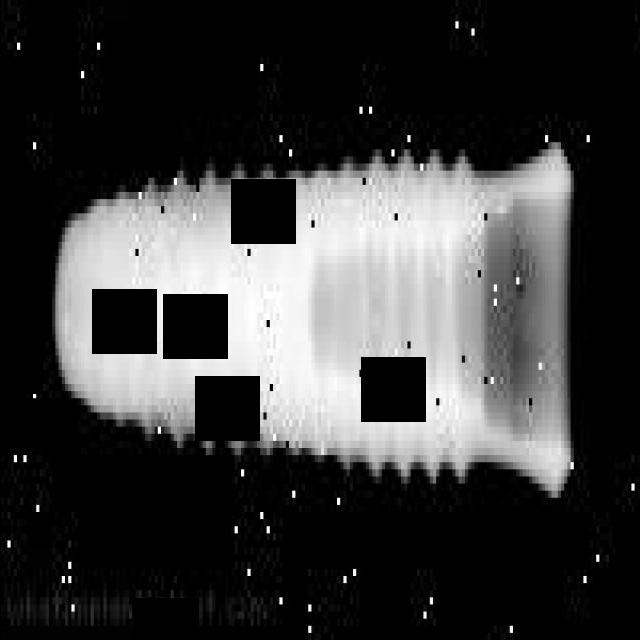Titan Implant Implant: (51, 142, 570, 498)
